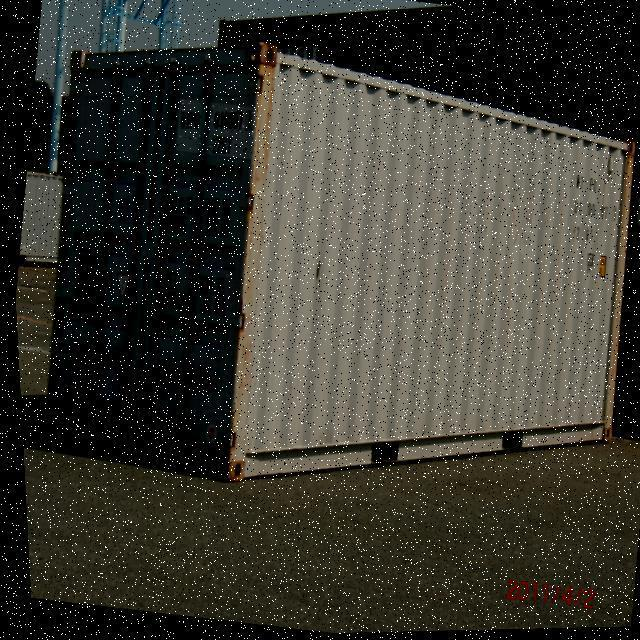container_number_h: (172, 98, 257, 162)
